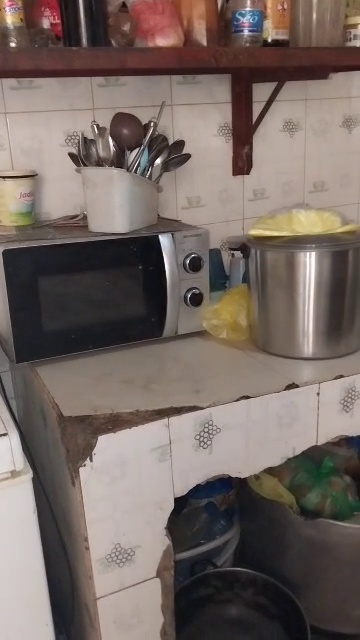microwave: (2, 217, 227, 369)
